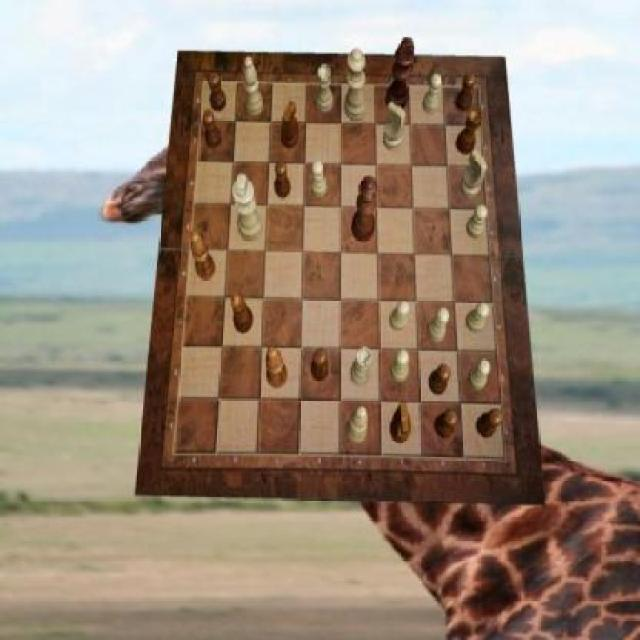bishop: (192, 231, 217, 280), (266, 346, 289, 389)
black-bishop: (386, 37, 416, 111)
black-king: (389, 401, 412, 444), (280, 102, 299, 149)
black-knight: (203, 111, 222, 151), (457, 74, 477, 112), (429, 364, 452, 396), (477, 411, 503, 438), (208, 74, 225, 112), (436, 411, 458, 438), (276, 162, 292, 199), (311, 349, 328, 382)
black-pawn: (350, 176, 378, 242)
black-queen: (456, 110, 482, 156), (231, 294, 254, 334)
black-rook: (244, 57, 264, 117), (346, 406, 369, 445)
white-bishop: (232, 174, 263, 241)
white-king: (460, 150, 488, 198), (383, 101, 406, 150)
white-knight: (423, 74, 443, 114), (469, 358, 492, 391), (428, 308, 450, 342), (466, 302, 490, 332), (466, 205, 487, 239), (391, 300, 411, 331), (391, 349, 408, 383), (311, 162, 327, 198)
white-pawn: (344, 49, 368, 122)
white-queen: (349, 346, 372, 386), (315, 63, 333, 112)
